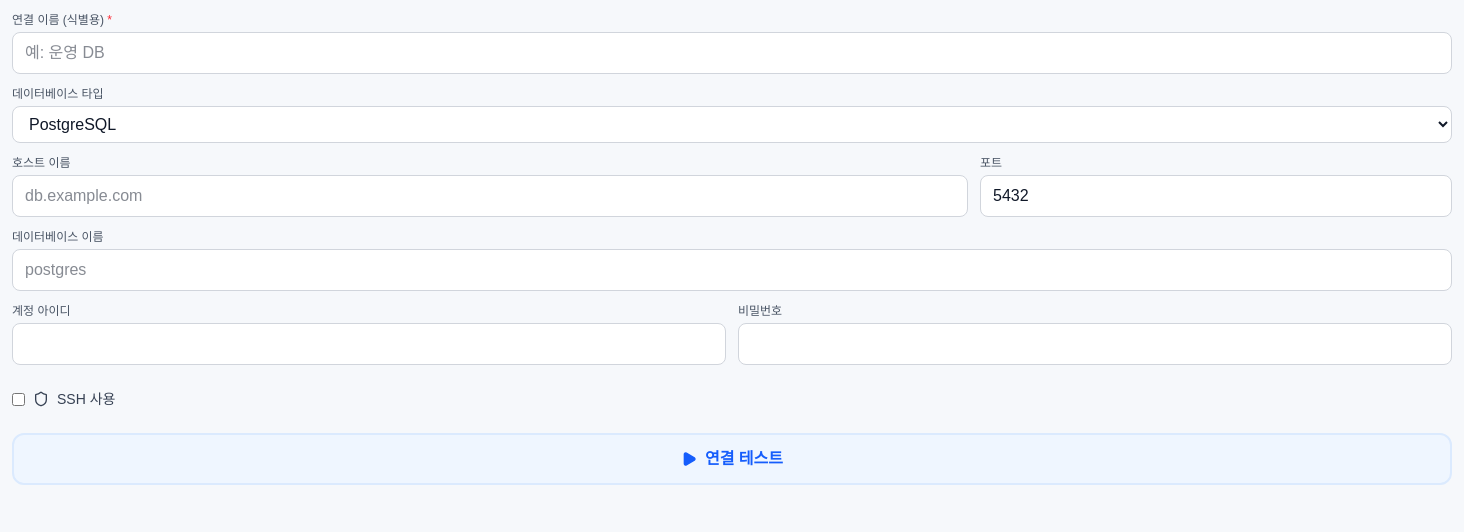
Test: DBConnectionForm connector test boundary › blocks duplicate clicks while pending
The width and height of the screenshot is (1464, 532).
What coordinates should you click on to do the following:
click the button "연결 테스트"
I would click on:
 (732, 459)
Its box is [12,433,1452,485].
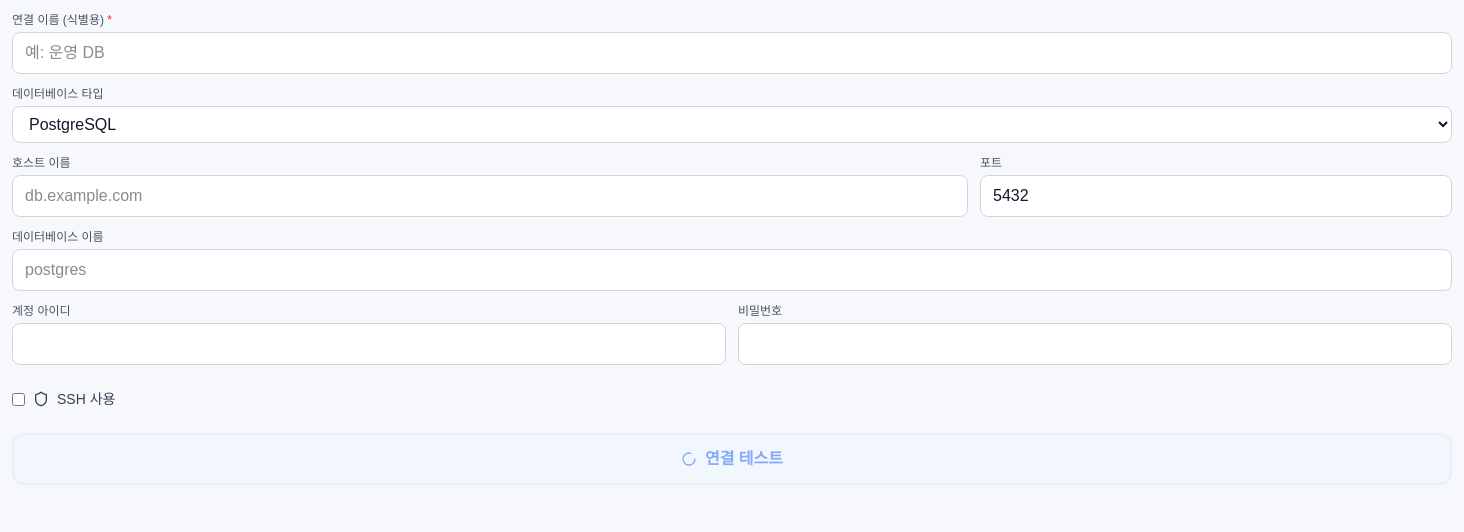
Expected: the button "연결 테스트" is disabled
What coordinates should you click on to do the following:
click the button "연결 테스트"
I would click on:
 (732, 459)
Its box is [12,433,1452,485].
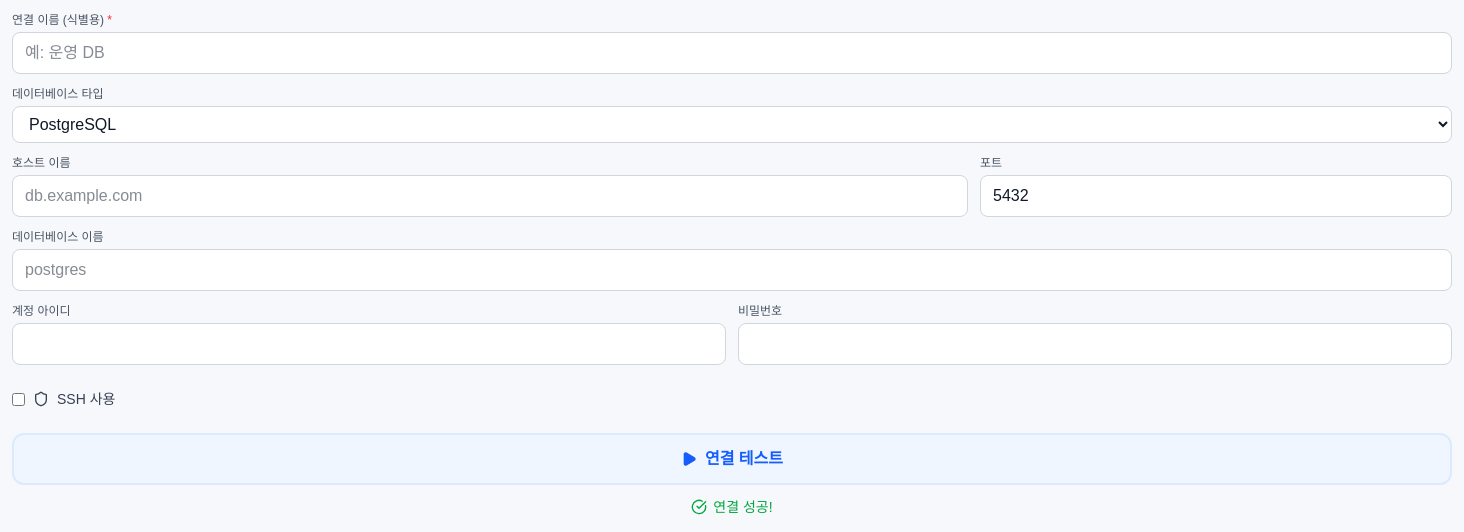
Expected: the button "연결 테스트" is enabled, [12,433,1452,485]
